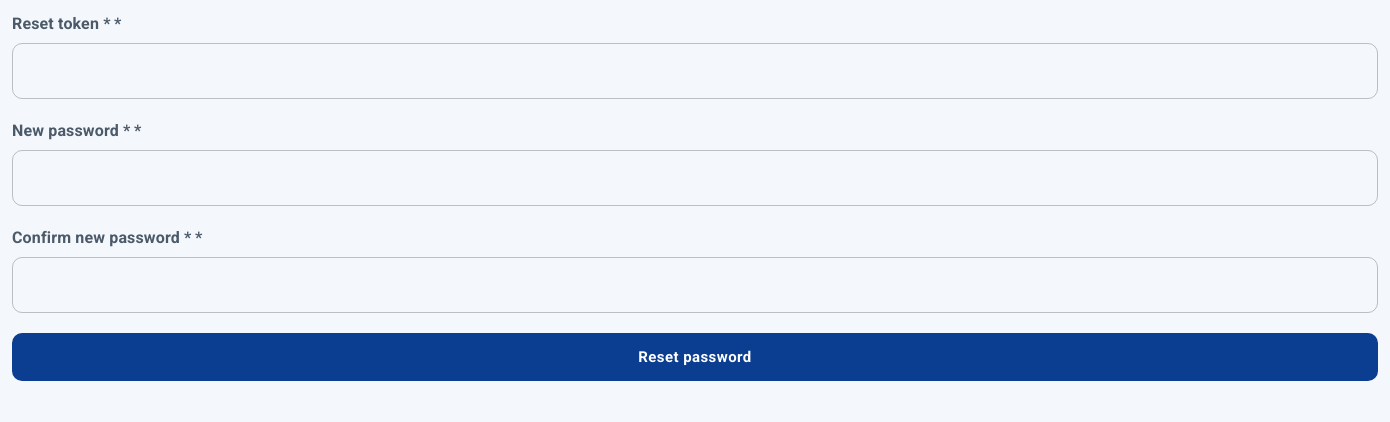
Scenario: ResetPasswordForm › shows an error when passwords do not match
Type "reset-token-123" into the field labelled "Reset token * *" at [695, 71], box [12,43,1378,99]
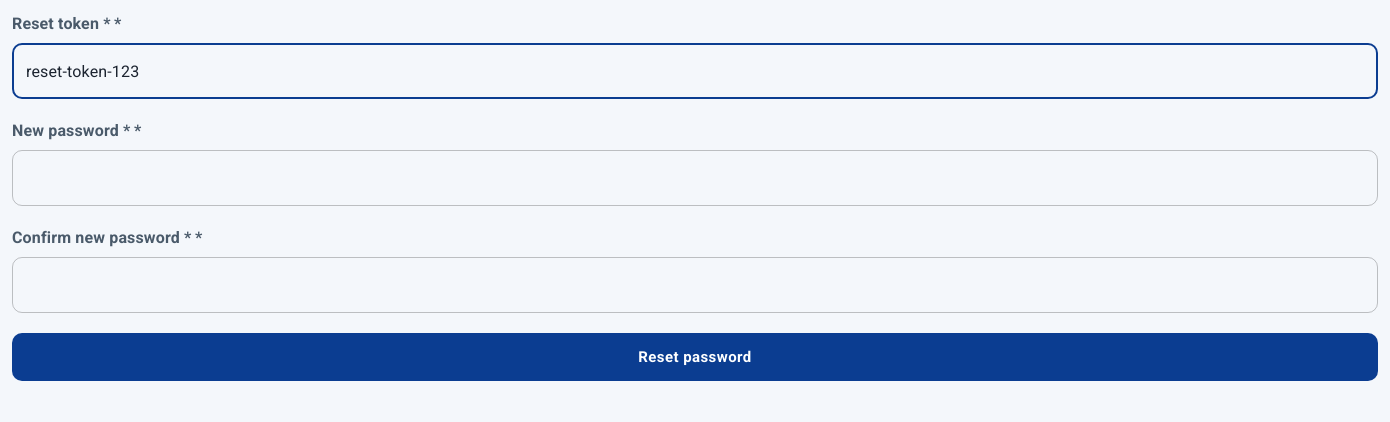
Type "Password123!" into the password field labelled "New password * *" at [695, 178], box [12,150,1378,206]
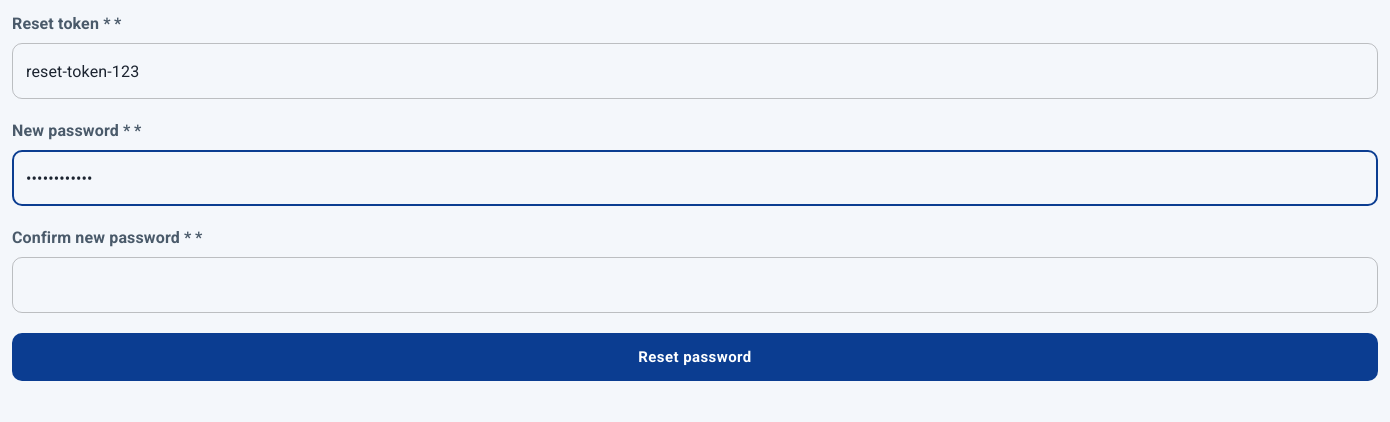
Type "Different123!" into the password field labelled "Confirm new password * *" at [695, 285], box [12,257,1378,313]
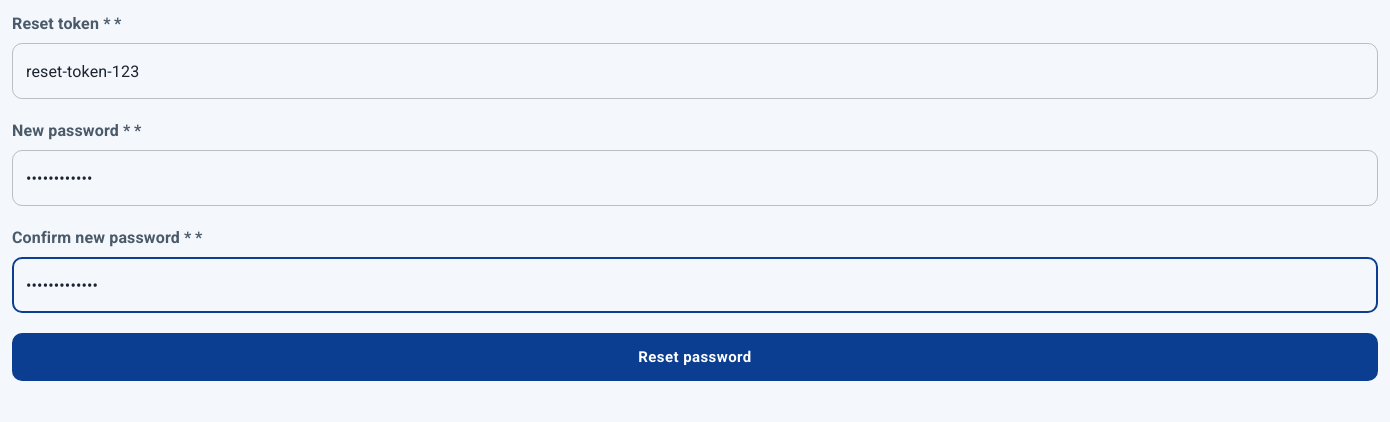
Click the button "Reset password" at [695, 357], box [12,333,1378,381]
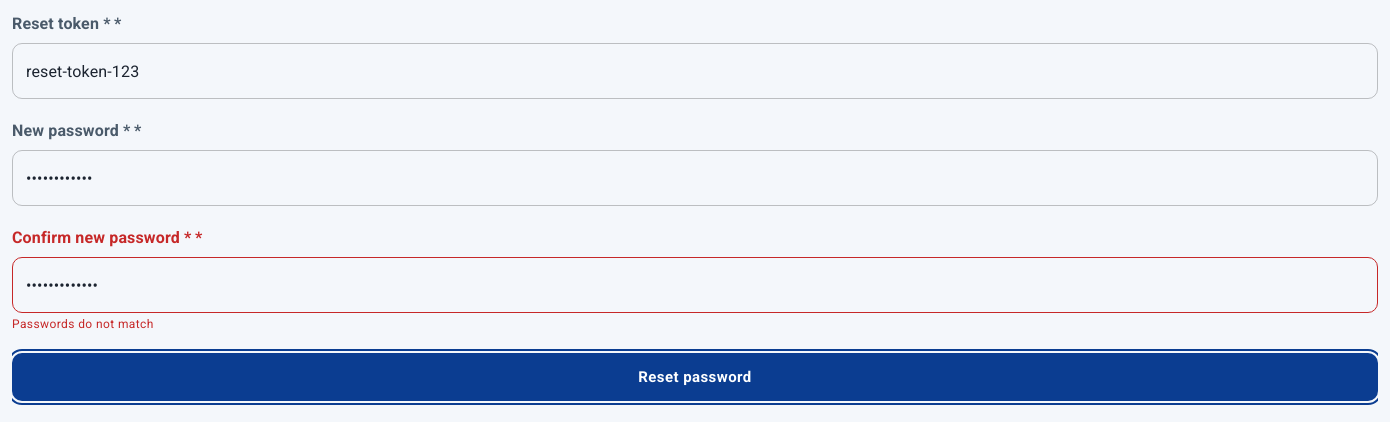
Expected: the text "Passwords do not match" is shown, [12,317,154,331]
